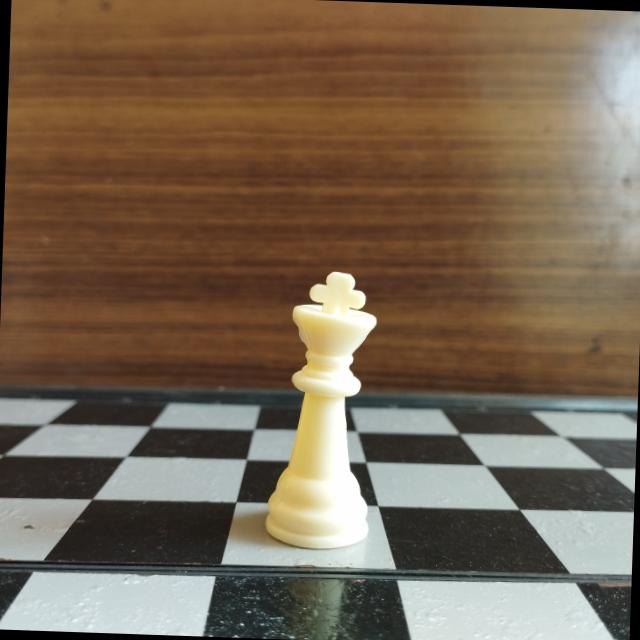White King: (263, 263, 383, 553)
